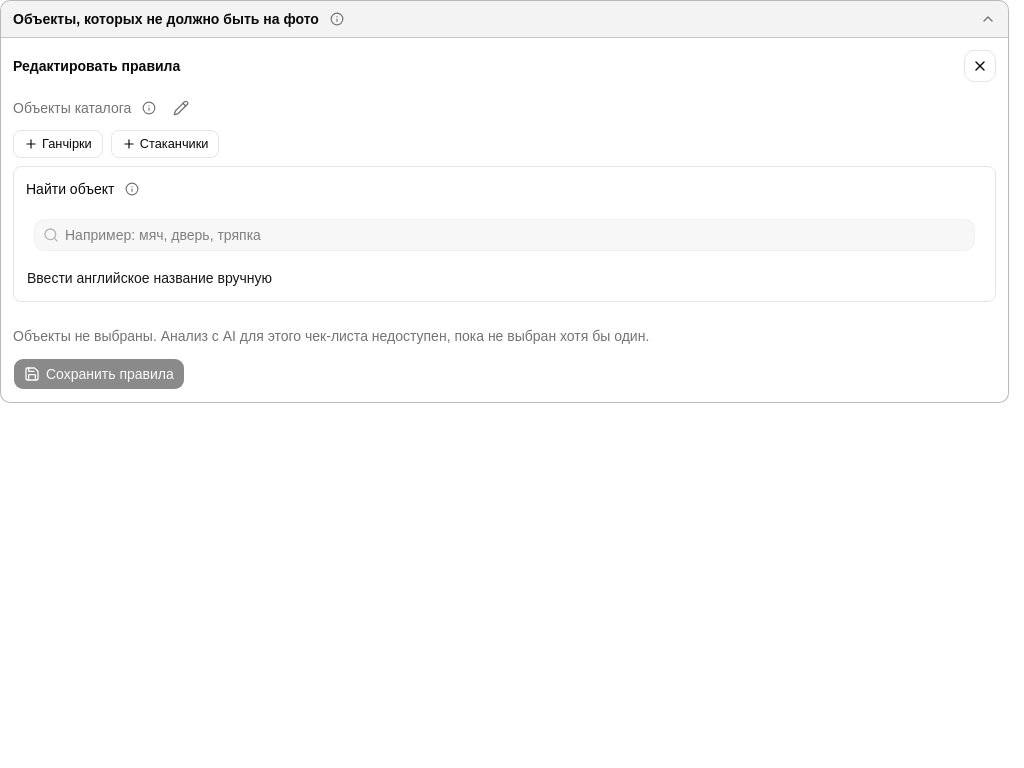
opens directly in edit mode without a second click and keeps Save disabled until changed
The image size is (1024, 768).
Expected: the button "Сохранить правила" is disabled, [13, 358, 185, 390]
Click the button "Ганчірки" at x=58, y=144, box [13, 130, 103, 158]
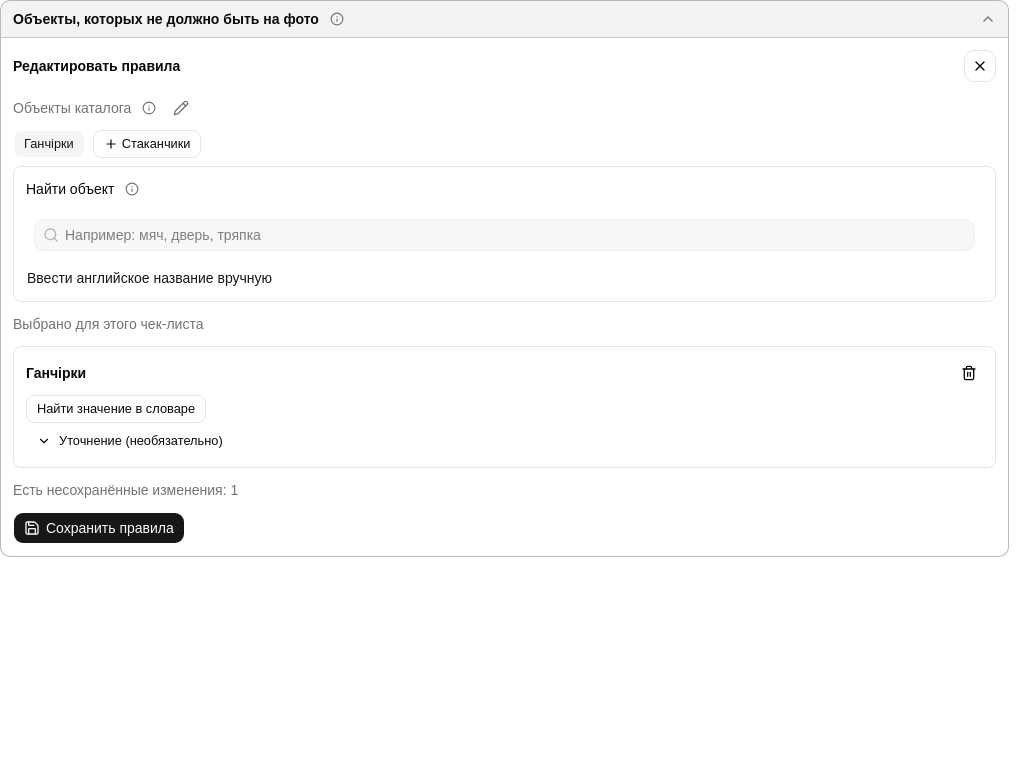
Result: the button "Сохранить правила" is enabled at [13, 512, 185, 544]
